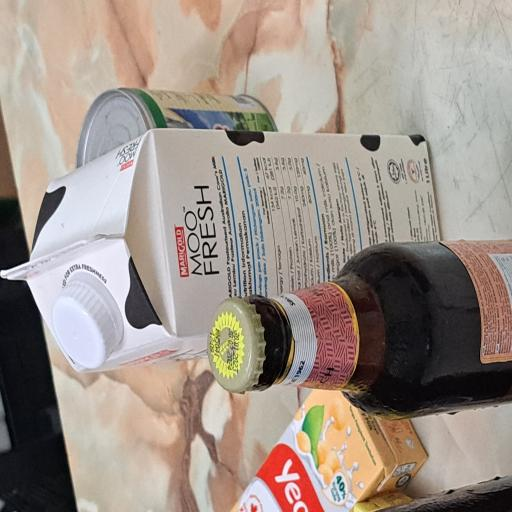can: (258, 101, 318, 372)
drink carton: (105, 0, 284, 512), (0, 308, 95, 512)
glass bottle: (68, 276, 204, 512)
plastic bottle cap: (108, 70, 181, 166)
